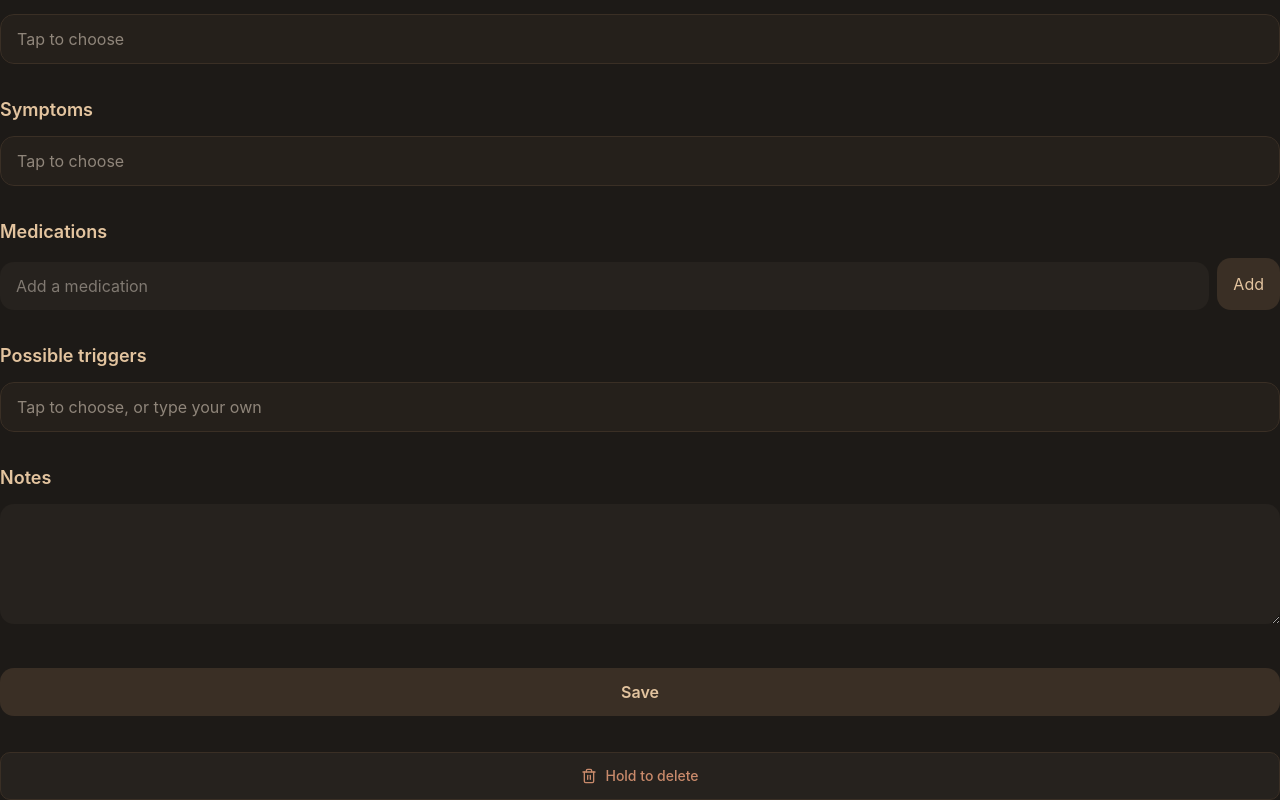
Test: a failed delete is reported
The width and height of the screenshot is (1280, 800).
(page scrolled)
Press the mouse on the button "Hold to delete": (640, 776) [0,752,1279,799]
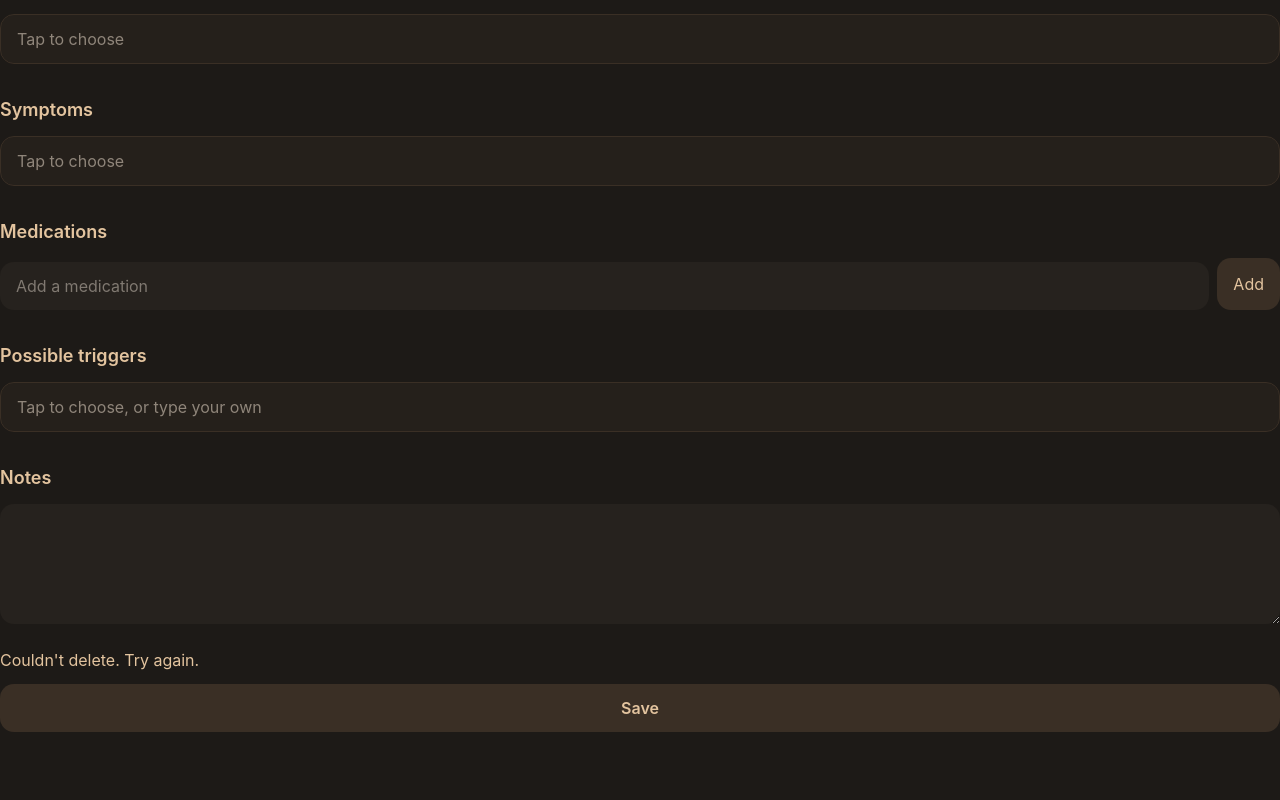
Result: the text "Couldn't delete. Try again." is shown at [0,650,199,670]
